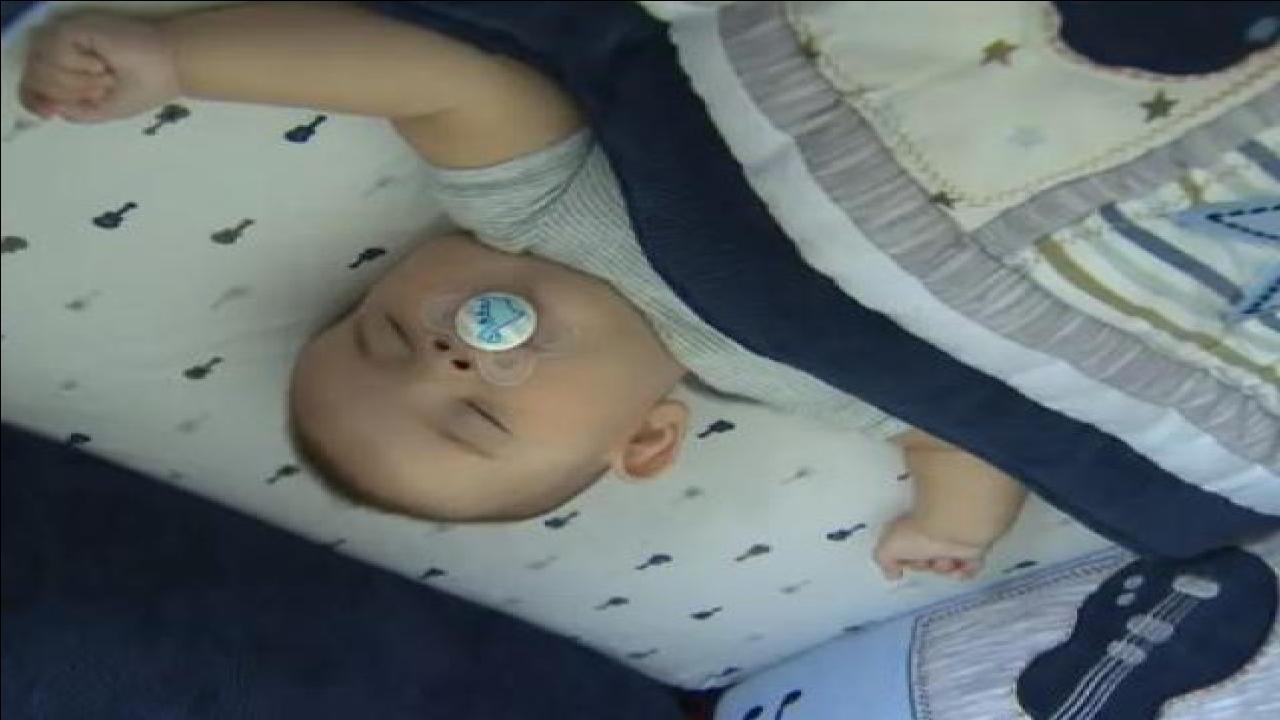hand: (9, 8, 182, 121), (862, 517, 988, 577)
